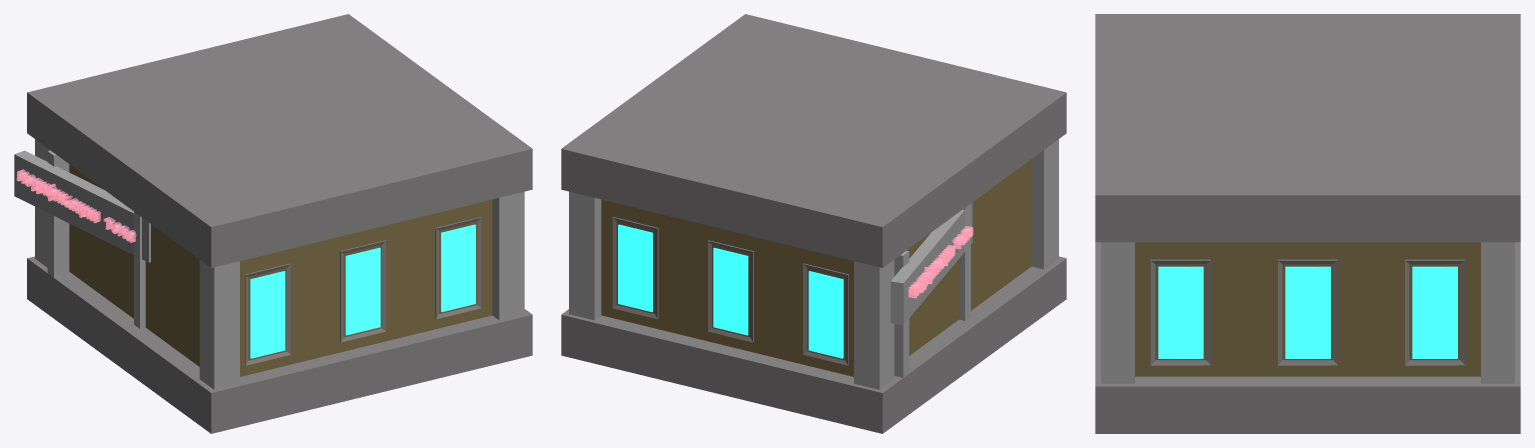
3 renders of one model, left to right at view 1: azimuth 30°, elevation 25°; view 2: azimuth 150°, elevation 25°; view 3: azimuth 270°, elevation 25°, orthographic. The views are drawn at different scales.
Parts seen in each view (by area): view 1: Cube.014, Cube.002, Cube.013, Cube.010, Cube.016, Cube.006, Cube.015, Cube.005, Cube.004, Text, Cube.011, Cube.012 (+1 smaller); view 2: Cube.014, Cube.002, Cube.013, Cube.017, Cube.001, Cube.018, Cube, Cube.003, Cube.010, Cube.016, Text, Cube.011 (+1 smaller); view 3: Cube.014, Cube.002, Cube.013, Cube.007, Cube.008, Cube.009, Cube.015, Cube.018.
Part boxes in pixels (x1,y1,x2,y2): Cube.014: (27, 14, 532, 267); Cube.002: (69, 164, 492, 376); Cube.013: (27, 256, 532, 433); Cube.010: (14, 150, 150, 262); Cube.016: (199, 260, 239, 389); Cube.006: (245, 263, 290, 365); Cube.015: (492, 191, 524, 320); Cube.005: (435, 217, 481, 319); Cube.004: (340, 240, 385, 342); Text: (16, 169, 136, 242); Cube.011: (47, 150, 69, 277); Cube.012: (134, 212, 145, 328); Cube.014: (561, 14, 1066, 267); Cube.002: (601, 159, 1031, 376); Cube.013: (561, 256, 1066, 433); Cube.017: (854, 260, 894, 389); Cube.001: (803, 263, 848, 365); Cube.018: (569, 191, 601, 320); Cube: (612, 217, 658, 319); Cube.003: (708, 240, 753, 342); Cube.010: (890, 202, 972, 325); Cube.016: (1031, 139, 1058, 269); Text: (908, 226, 973, 298); Cube.011: (894, 250, 909, 377); Cube.014: (1095, 14, 1520, 242); Cube.002: (1135, 242, 1480, 376); Cube.013: (1095, 242, 1520, 433); Cube.007: (1150, 259, 1210, 365); Cube.008: (1405, 259, 1465, 365); Cube.009: (1278, 259, 1337, 365); Cube.015: (1101, 242, 1134, 383); Cube.018: (1481, 242, 1514, 383).
Bounding box in the file's own units: 14.19 × 8.16 × 13.17.
